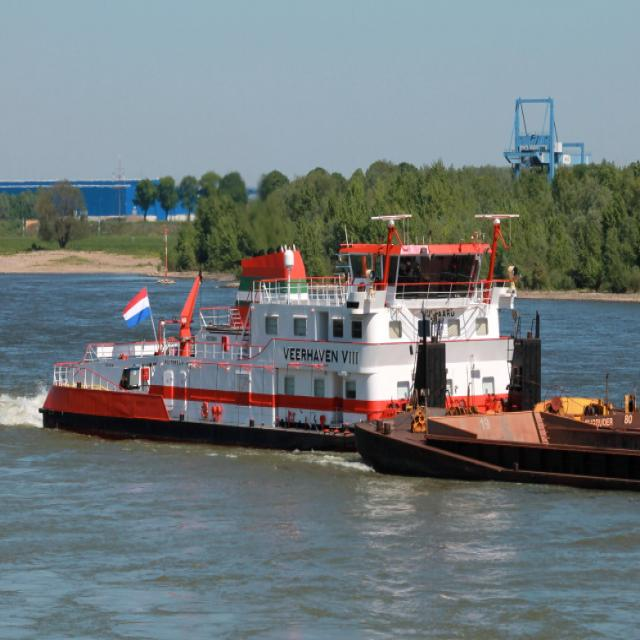tugboat: (37, 211, 547, 460)
